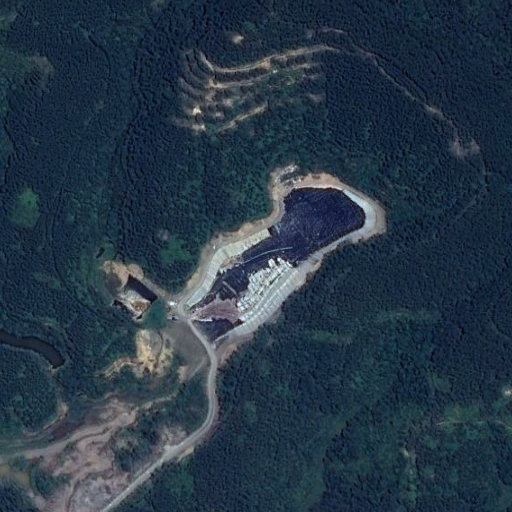lf: (190, 183, 372, 352)
